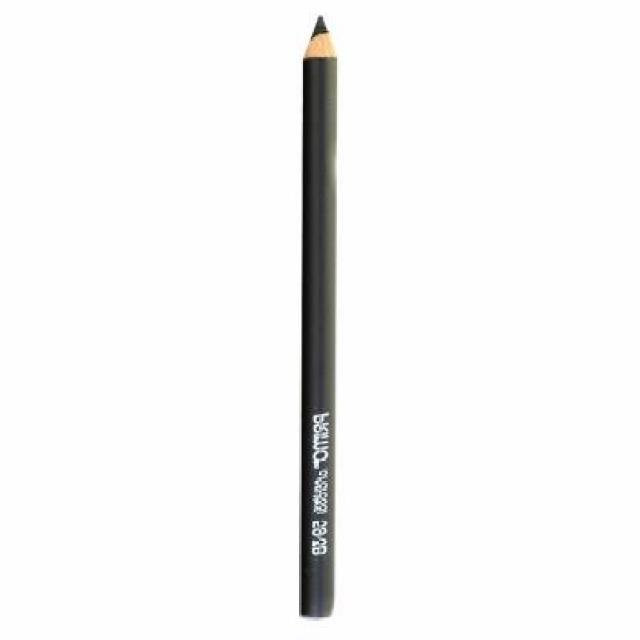Pencil: (294, 8, 351, 76)
